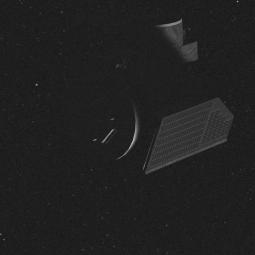cheops: (71, 15, 234, 177)
